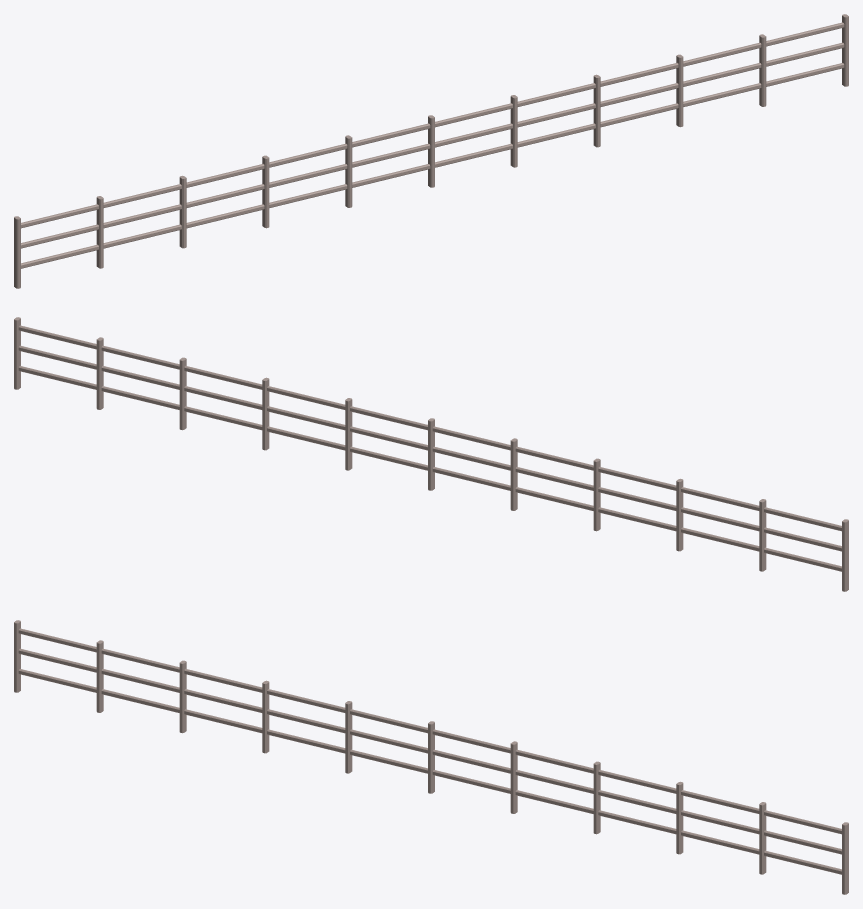
The model's file is 1022_fence_10.glb.
3 views of the same model, one above another, from view 1: azimuth 30°, elevation 25°; view 2: azimuth 150°, elevation 25°; view 3: azimuth 330°, elevation 25° (orthographic).
Visible parts, largest first — view 1: Body; view 2: Body; view 3: Body.
Boxes of the visible parts, box(x1,y1,x2,y2) form: Body: box(14, 14, 848, 288); Body: box(14, 317, 848, 591); Body: box(14, 620, 848, 894).
Bounding box in the file's own units: 15.08 × 1.2 × 0.12.
